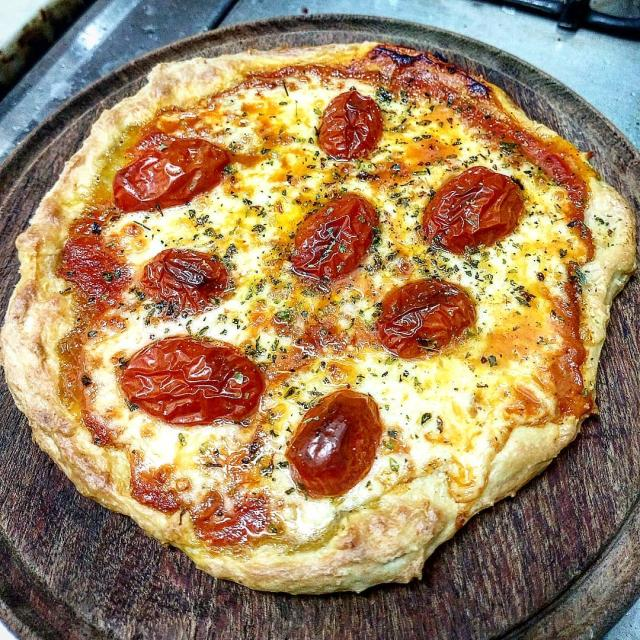pizza: (1, 42, 634, 594)
tomatoes: (120, 336, 265, 426), (286, 388, 382, 498), (422, 166, 525, 254), (113, 139, 231, 212), (376, 278, 475, 358), (290, 194, 379, 279), (318, 91, 382, 160), (158, 262, 228, 312), (88, 238, 126, 304)
